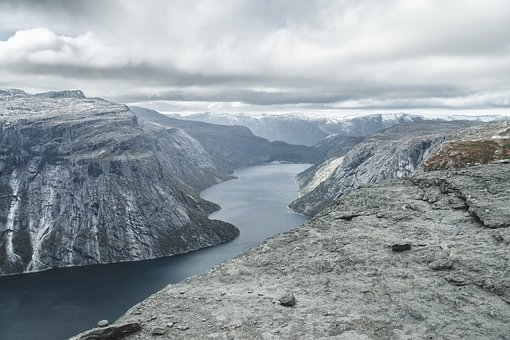lake: (17, 170, 335, 329)
mountain: (6, 96, 506, 333)
sky: (6, 3, 498, 110)
